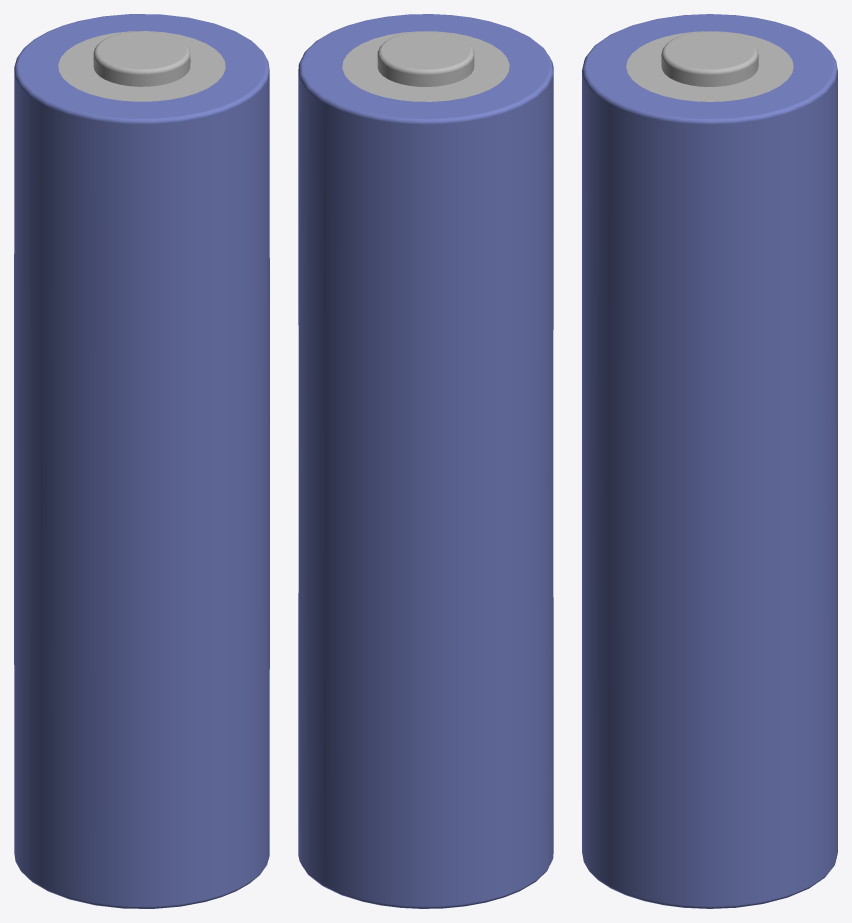
Rendered from battery.glb.
The picture shows the model from 3 angles, left to right: view 1: azimuth 30°, elevation 25°; view 2: azimuth 150°, elevation 25°; view 3: azimuth 270°, elevation 25°; orthographic projection.
Visible parts, largest first — view 1: Body1; view 2: Body1; view 3: Body1.
Part boxes in pixels (x1,y1,x2,y2): Body1: [14, 14, 269, 908]; Body1: [298, 14, 553, 908]; Body1: [582, 14, 837, 908].
Size of the model in its own units: 0.0145 by 0.0505 by 0.0145.
